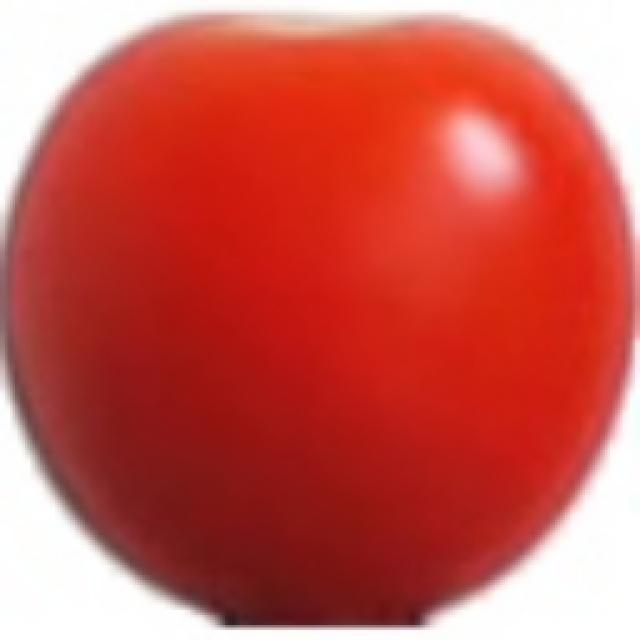tomato: (0, 13, 636, 631)
